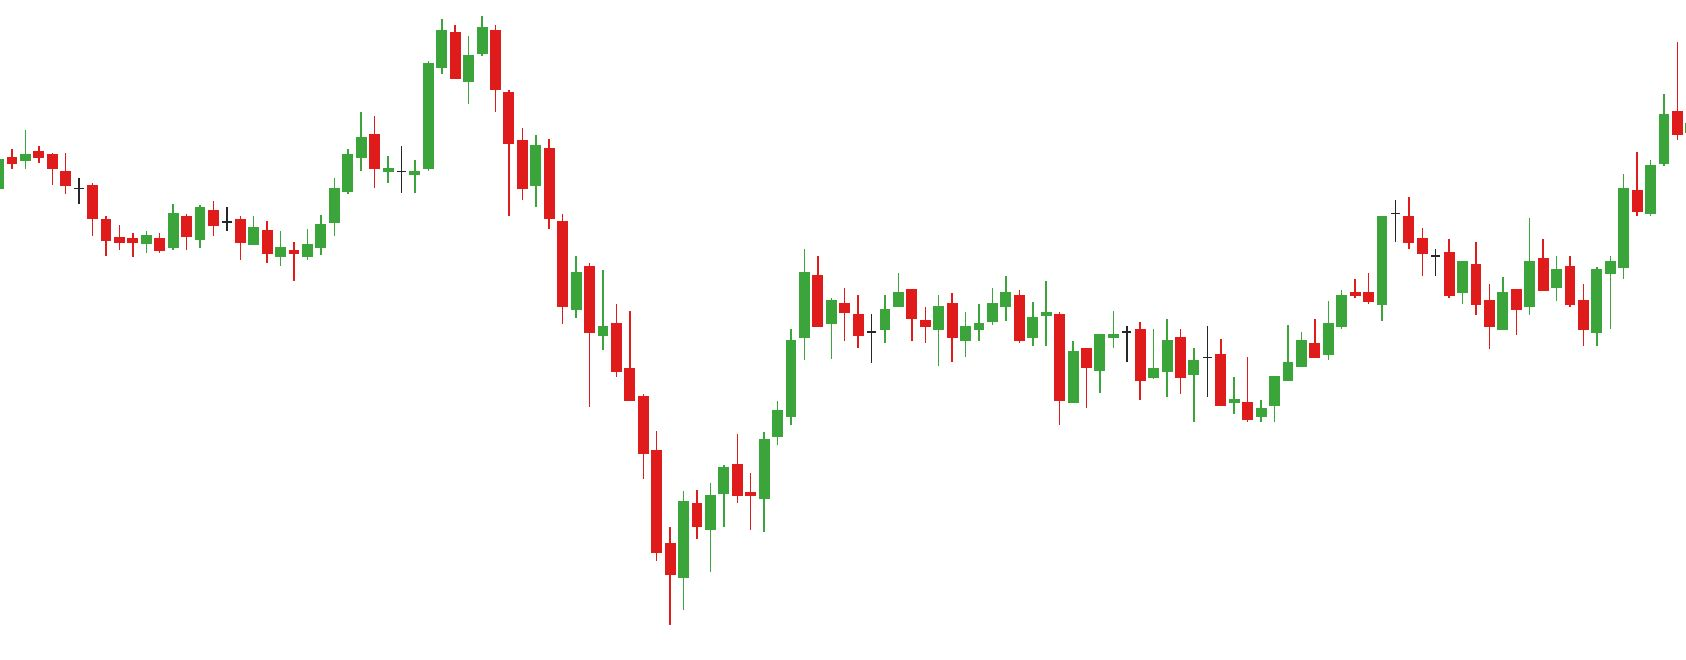buy: (932, 304, 1082, 426), (1509, 246, 1604, 356)
